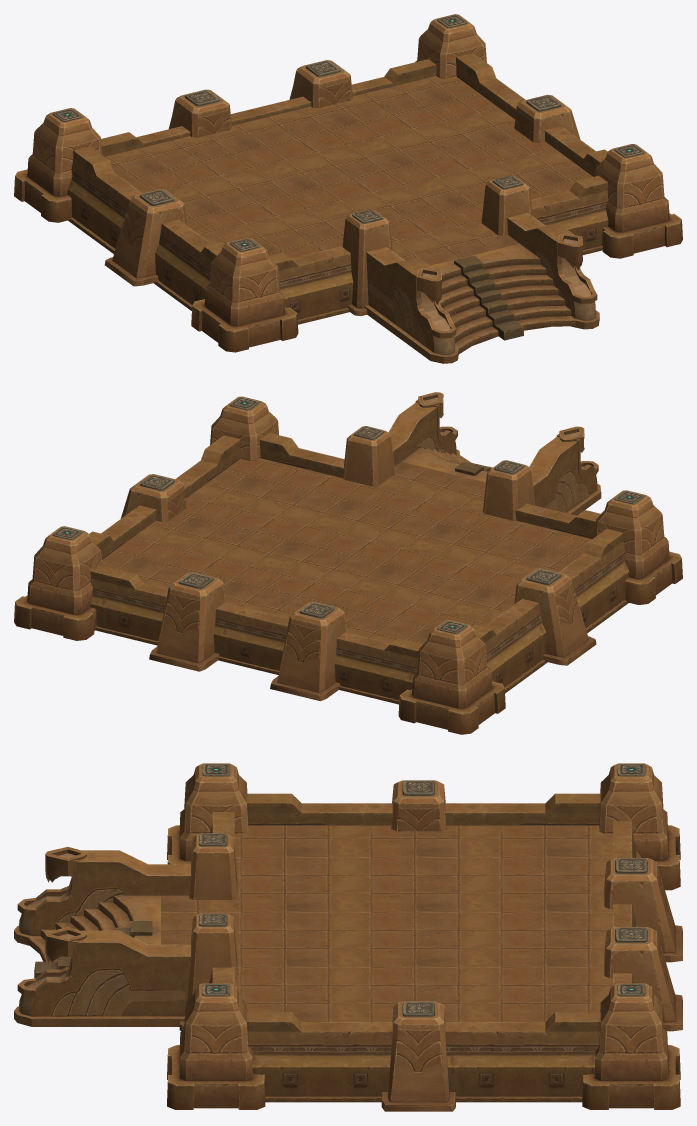
File: nashgar_construct_temple_01.FBX
3 renders of one model, top to bottom at view 1: azimuth 30°, elevation 25°; view 2: azimuth 150°, elevation 25°; view 3: azimuth 270°, elevation 25°, orthographic. The views are drawn at different scales.
Visible parts, largest first — view 1: nashgar_construct_temple_01; view 2: nashgar_construct_temple_01; view 3: nashgar_construct_temple_01.
Boxes of the visible parts, <box> form: nashgar_construct_temple_01: <box>14,14,682,363</box>; nashgar_construct_temple_01: <box>14,392,682,734</box>; nashgar_construct_temple_01: <box>14,763,682,1111</box>.
Bounding box in the file's own units: 24.06 × 4.35 × 25.72.
